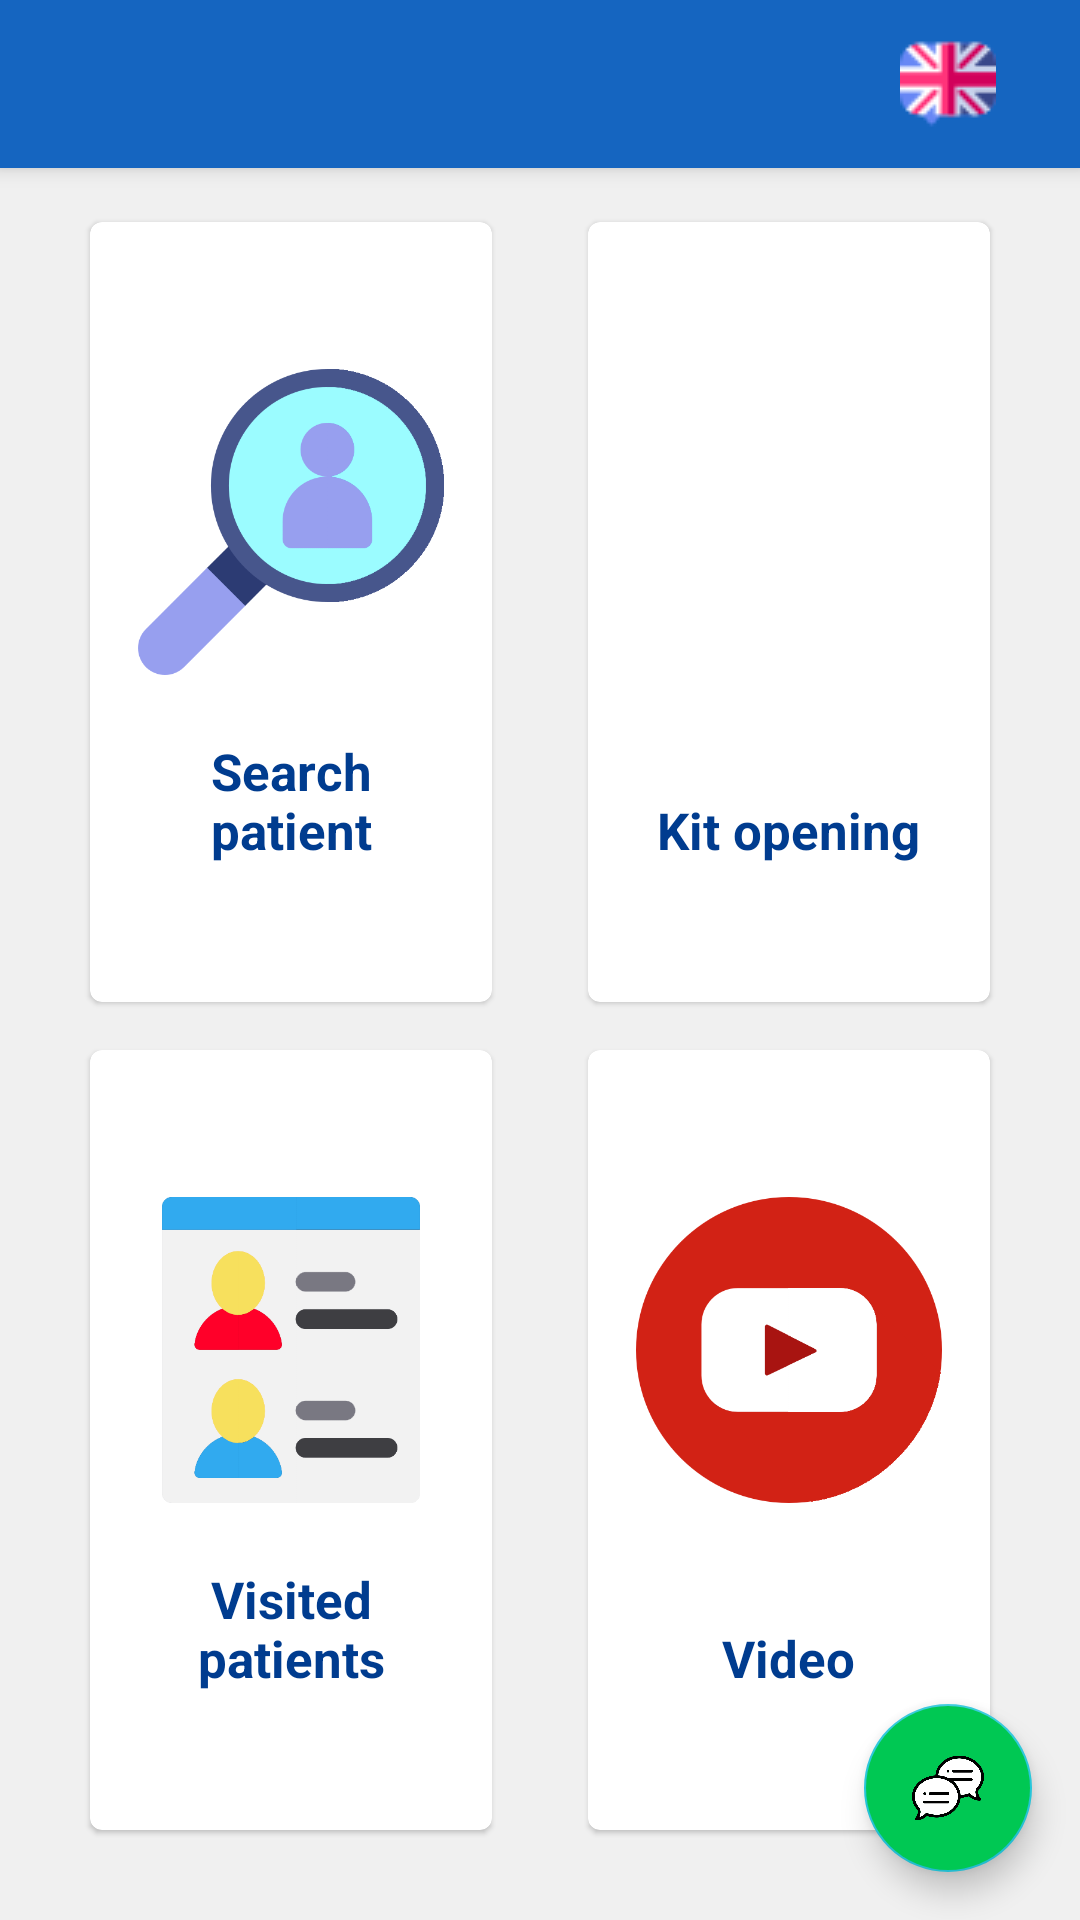

Icons on this 1080*1920 Android screen, each with the point to tap as (x=x, y=y):
lang: (x=948, y=83)
messenger: (x=948, y=1788)
